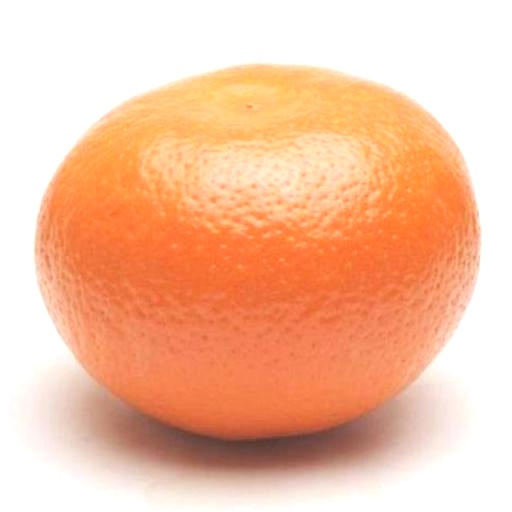fruit: (36, 65, 479, 439)
